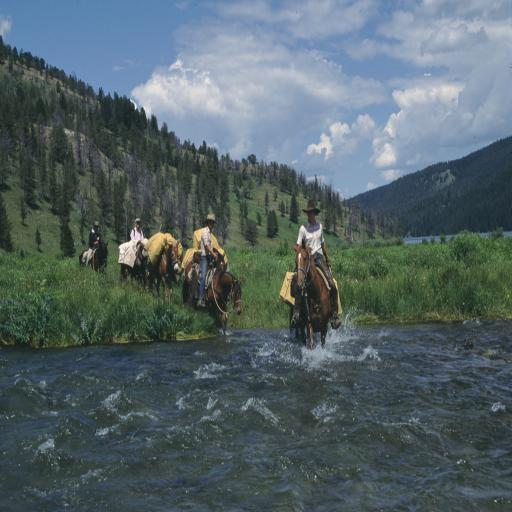Horse: (289, 248, 341, 364), (186, 264, 243, 333), (79, 244, 109, 273)
